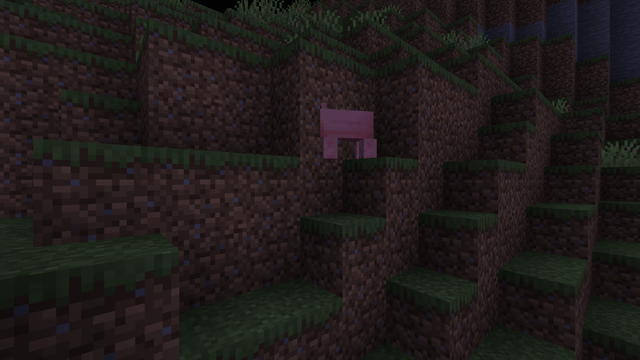cochons: (324, 103, 375, 162)
